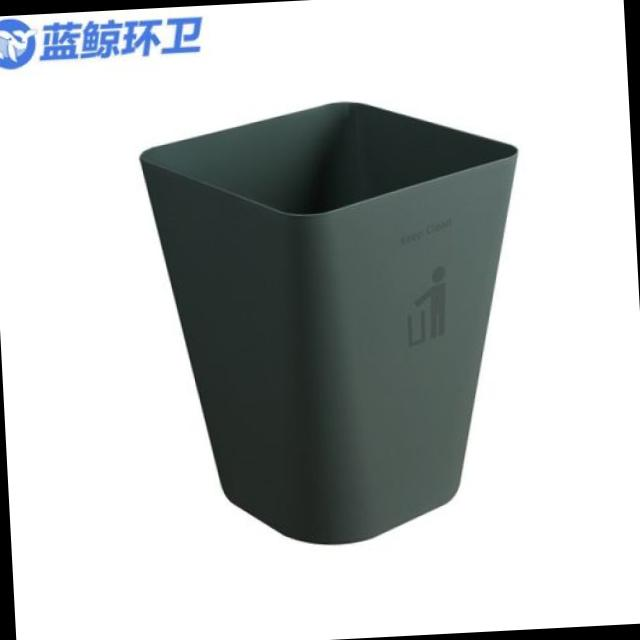dustbin: (135, 88, 543, 560)
